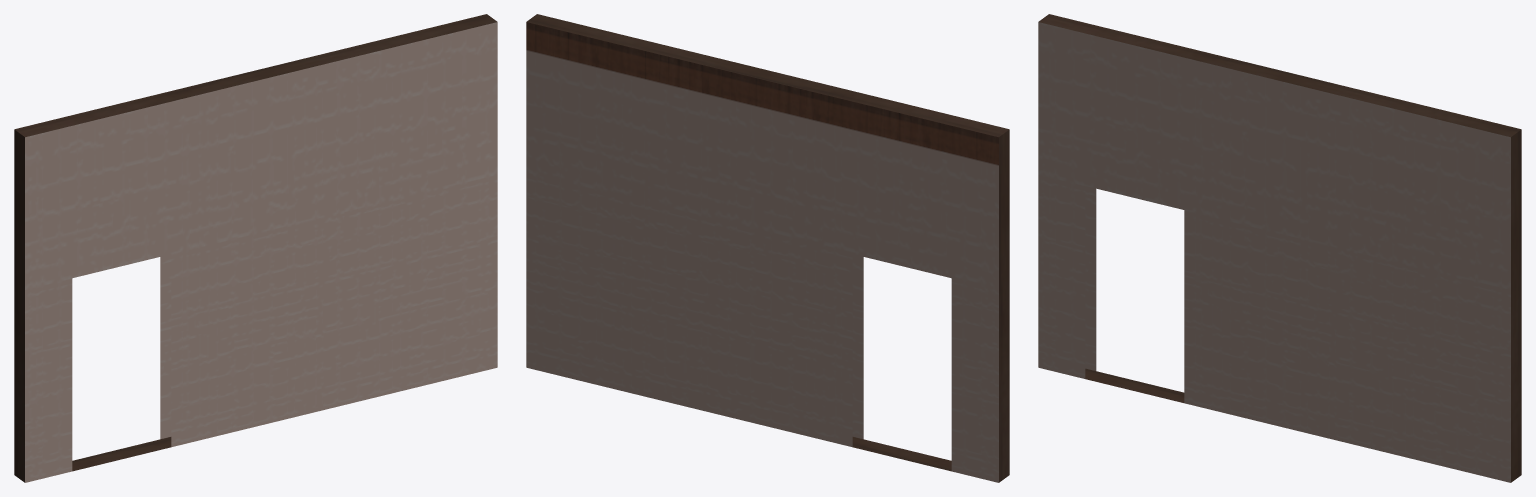
The model's file is BgMD_Tanihira_MobRoomFront_0201.fbx.
3 renders of one model, left to right at view 1: azimuth 30°, elevation 25°; view 2: azimuth 150°, elevation 25°; view 3: azimuth 330°, elevation 25°, orthographic.
Parts seen in each view (by area): view 1: pCube57; view 2: pCube57; view 3: pCube57.
Boxes of the visible parts, box(x1,y1,x2,y2) form: pCube57: box(14, 14, 497, 482); pCube57: box(526, 14, 1009, 482); pCube57: box(1038, 14, 1521, 482).
Bounding box in the file's own units: 500 × 349 × 20.
